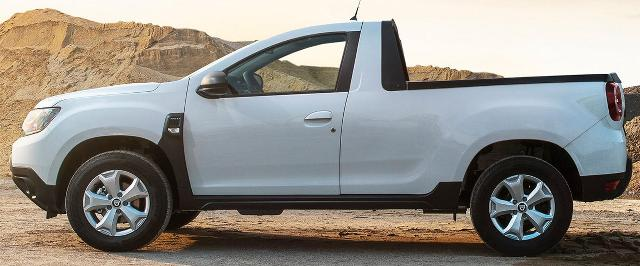pickup-truck: (7, 19, 634, 259)
